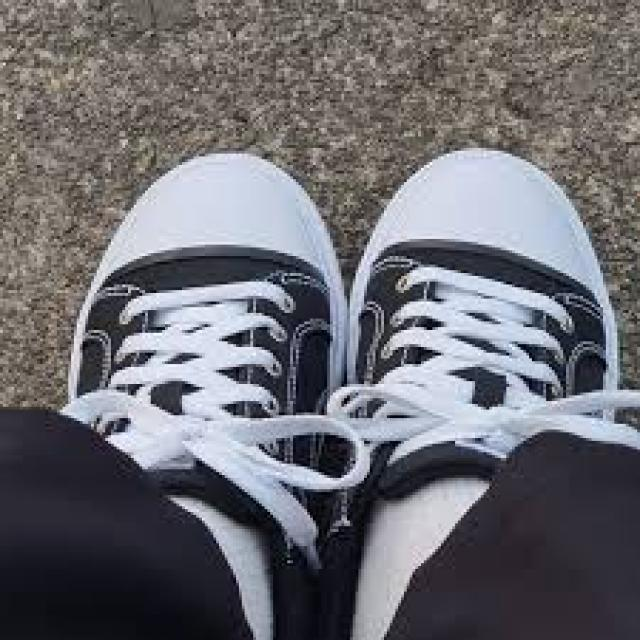shoe: (349, 128, 632, 630), (66, 151, 327, 640)
